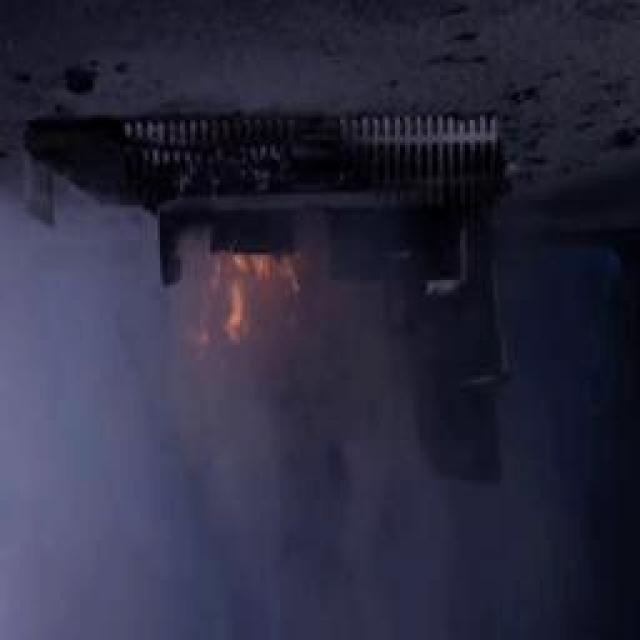fire: (180, 219, 310, 376)
smoke: (0, 355, 398, 640)
